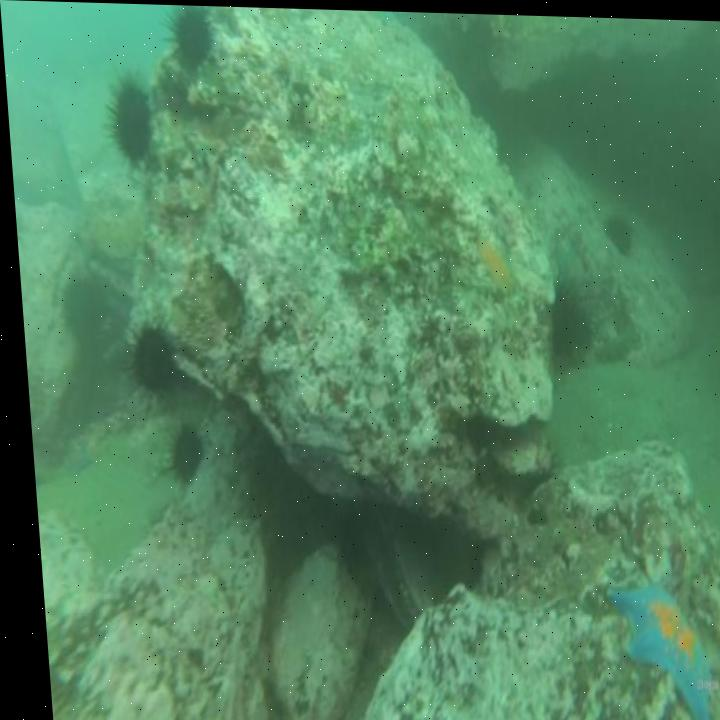echinus: (124, 317, 180, 409), (107, 73, 160, 168), (545, 274, 593, 371), (161, 5, 220, 76), (154, 416, 201, 491), (600, 206, 634, 258)
starfish: (596, 573, 714, 720)
